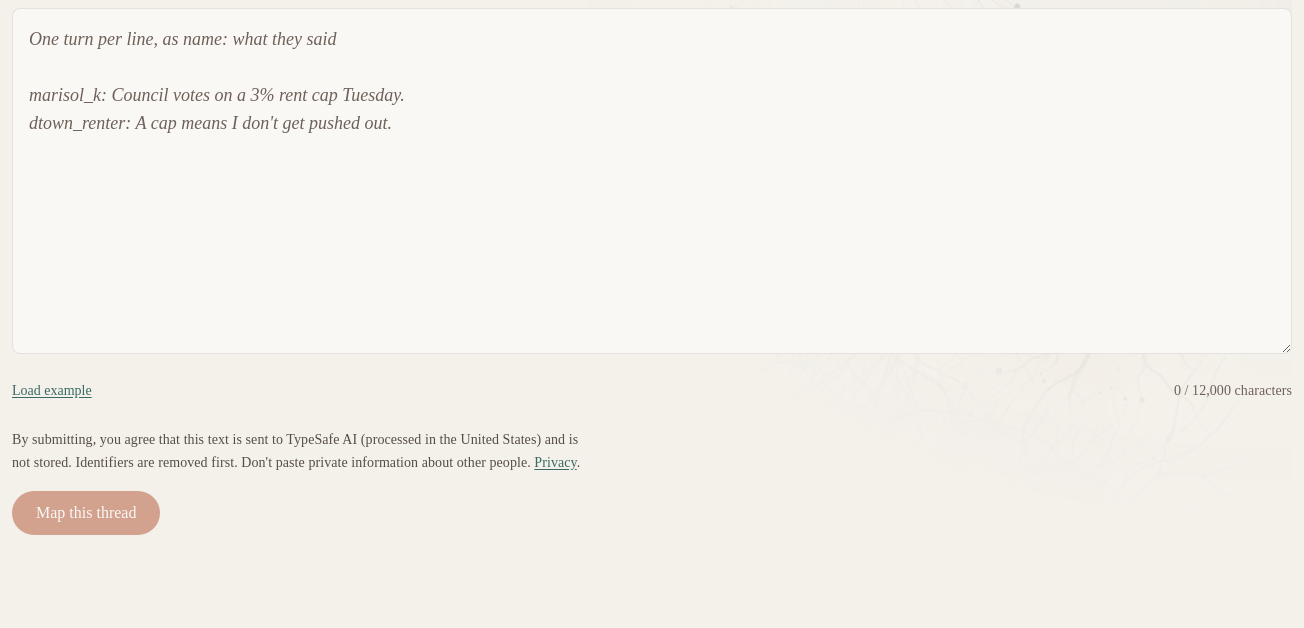
Test: MapReplyClient API boundary › uses a typed server error message for an unknown error code
Click the button "Load example" at {"x": 52, "y": 391}, box [12,369,92,413]
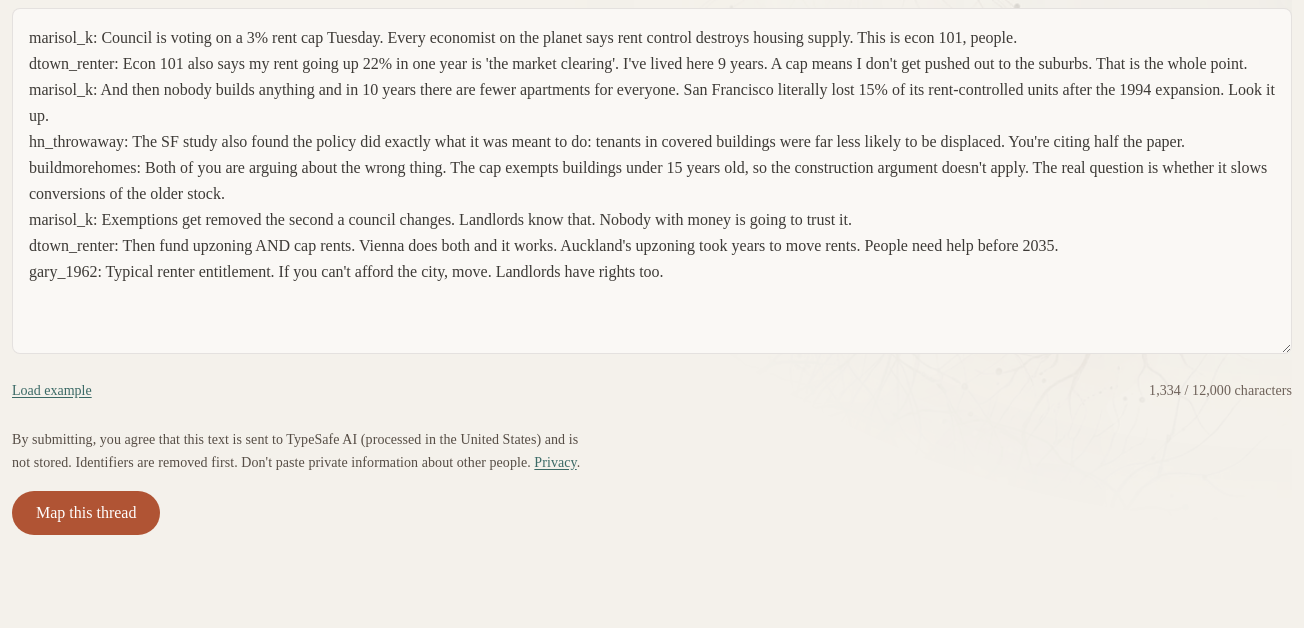
Click the button "Map this thread" at {"x": 86, "y": 512}, box [12,490,160,534]
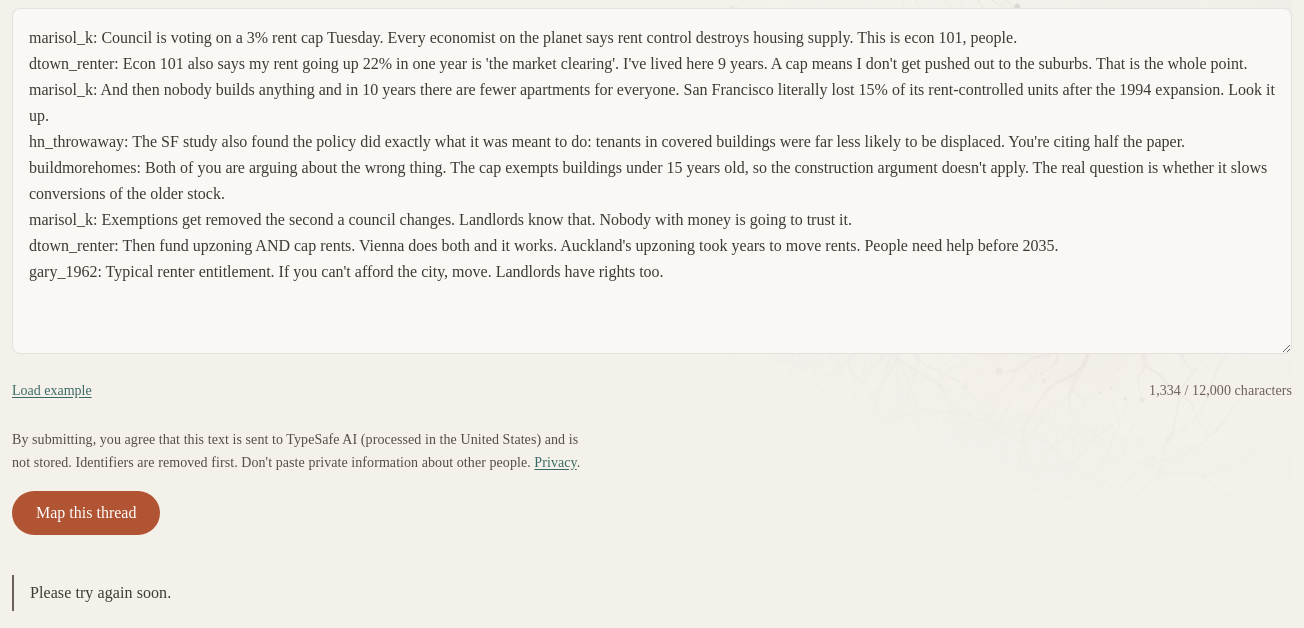
Expected: the message reads "Please try again soon.", [30,584,171,600]
